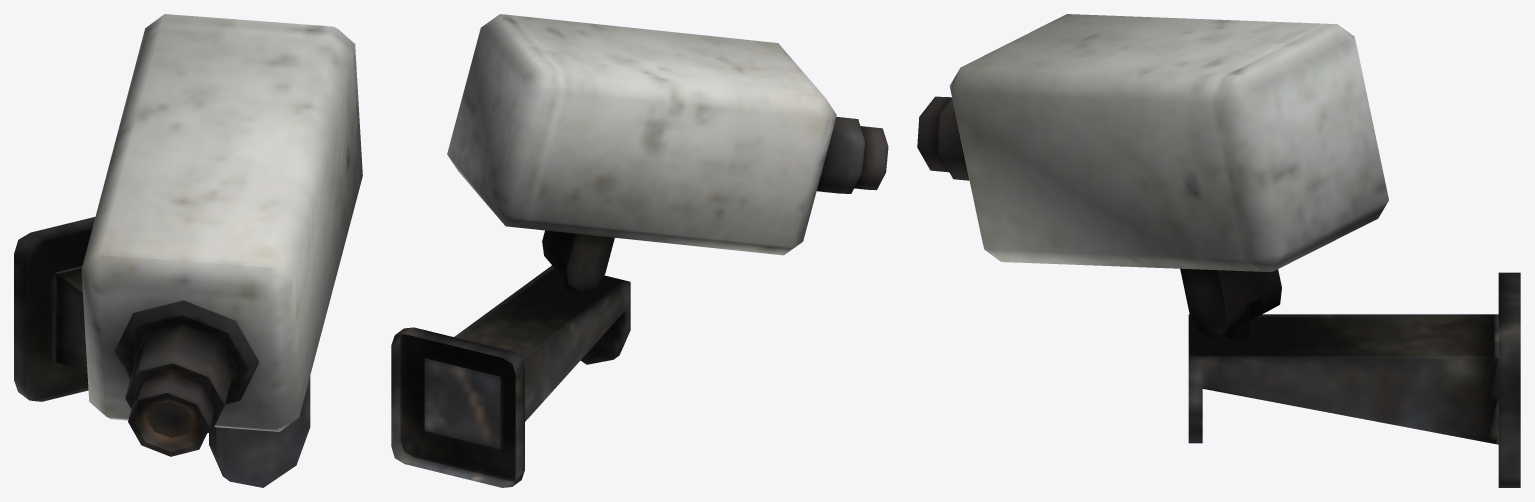
File: CCTVCamera.FBX
3 renders of one model, left to right at view 1: azimuth 30°, elevation 25°; view 2: azimuth 150°, elevation 25°; view 3: azimuth 270°, elevation 25°, orthographic. The views are drawn at different scales.
Parts seen in each view (by area): view 1: CCTVCamera; view 2: CCTVCamera; view 3: CCTVCamera.
Boxes of the visible parts, x1,y1,x2,y2 form: CCTVCamera: (14,14,362,487); CCTVCamera: (391,14,888,487); CCTVCamera: (917,14,1520,487).
Size of the model in its own units: 21.33 by 23.37 by 30.16.
